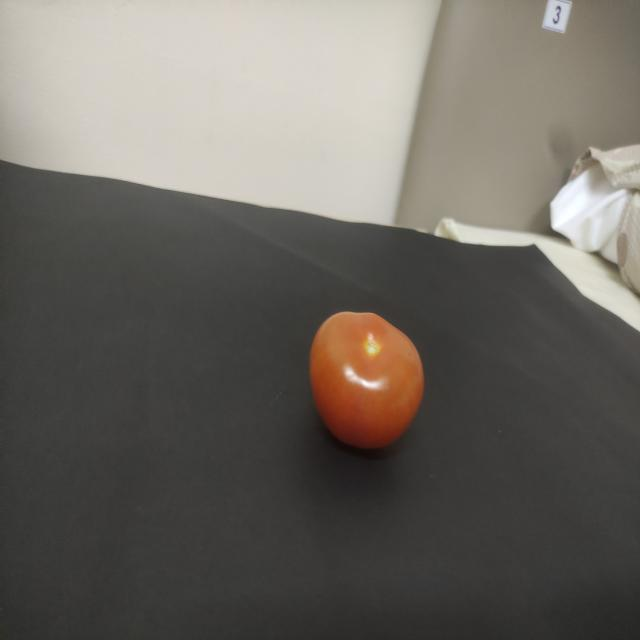sari: (296, 271, 433, 461)
